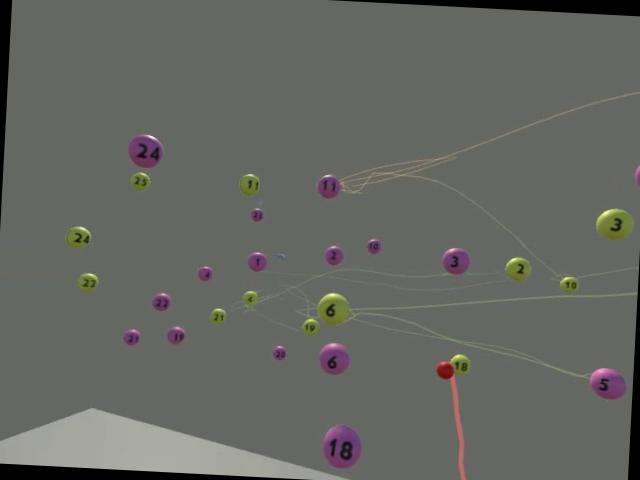ball_01_pink: (247, 252, 267, 272)
ball_02_pink: (324, 246, 344, 266)
ball_02_yellow: (504, 256, 532, 281)
ball_03_pink: (440, 246, 470, 274)
ball_03_yellow: (594, 208, 634, 241)
ball_04_pink: (196, 266, 212, 282)
ball_04_yellow: (242, 290, 258, 307)
ball_05_pink: (588, 366, 627, 400)
ball_06_pink: (317, 341, 350, 375)
ball_06_yellow: (316, 293, 349, 325)
ball_10_pink: (365, 238, 381, 255)
ball_10_yellow: (558, 274, 578, 292)
ball_11_pink: (317, 174, 341, 198)
ball_11_yellow: (238, 172, 260, 196)
ball_18_pink: (322, 424, 362, 468)
ball_18_yellow: (449, 353, 471, 375)
ball_19_pink: (167, 326, 185, 344)
ball_19_yellow: (301, 318, 319, 336)
ball_20_pink: (273, 346, 287, 362)
ball_21_pink: (122, 328, 140, 346)
ball_21_yellow: (208, 307, 226, 324)
ball_22_pink: (151, 292, 171, 313)
ball_22_yellow: (77, 272, 98, 292)
ball_24_pink: (126, 132, 164, 168)
ball_24_yellow: (64, 225, 92, 248)
ball_25_pink: (250, 207, 264, 222)
ball_25_yellow: (130, 170, 150, 190)
ball_unknown: (633, 160, 640, 187)
user_cursor: (435, 360, 454, 379)
